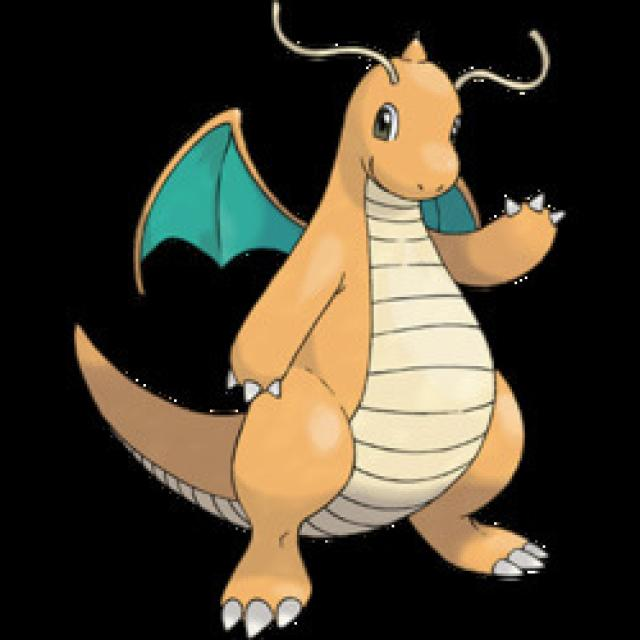Dragonite: (206, 29, 530, 595)
